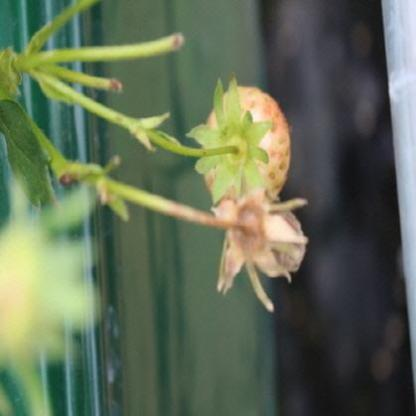Strawberry_Gray_Mold: (174, 188, 310, 314)
